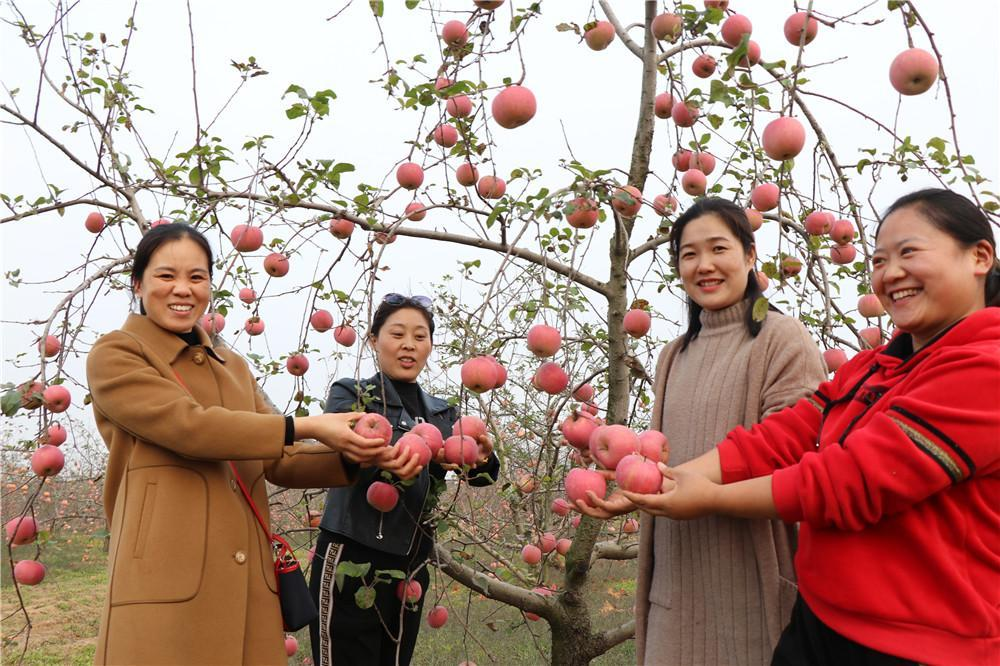apple: (888, 47, 937, 95), (493, 83, 537, 130), (614, 455, 665, 495), (762, 116, 807, 160), (591, 424, 637, 467), (565, 468, 605, 506), (353, 413, 394, 448), (459, 355, 496, 393), (563, 411, 598, 449), (526, 324, 561, 359), (638, 430, 672, 466), (783, 10, 817, 46), (30, 444, 65, 478), (396, 433, 431, 466), (536, 361, 570, 394), (412, 421, 443, 457), (452, 416, 489, 446), (444, 435, 478, 466), (722, 14, 753, 48), (229, 222, 264, 252), (582, 21, 615, 52), (565, 199, 599, 228), (367, 481, 396, 515), (6, 518, 41, 545), (612, 186, 642, 216), (751, 181, 781, 211), (12, 559, 46, 585), (623, 306, 651, 337), (40, 385, 71, 413), (440, 18, 469, 47), (397, 161, 425, 189), (476, 174, 507, 199), (262, 252, 290, 278), (446, 93, 475, 118), (805, 210, 834, 235), (430, 124, 460, 147), (329, 215, 355, 240), (682, 169, 706, 196), (829, 219, 856, 243), (692, 53, 717, 78), (672, 101, 697, 126), (311, 309, 335, 335), (286, 352, 309, 378), (653, 93, 674, 119), (82, 212, 105, 235), (46, 422, 68, 446), (334, 324, 356, 346)
